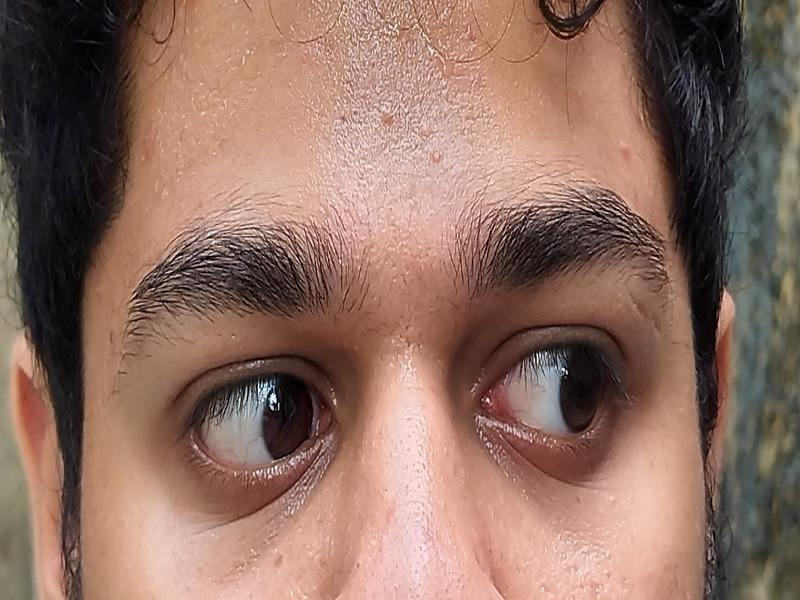EYE LEFT: (198, 374, 312, 466), (492, 348, 605, 438)
